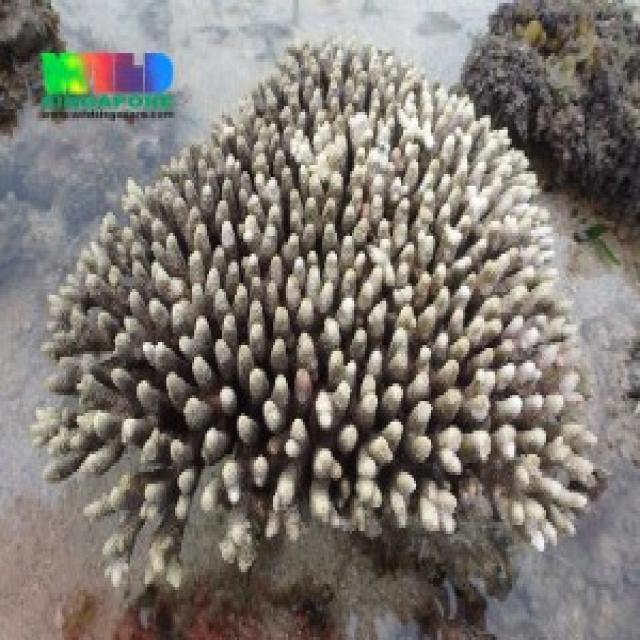Bleached: (39, 36, 602, 563)
Healthy: (467, 2, 640, 206)
